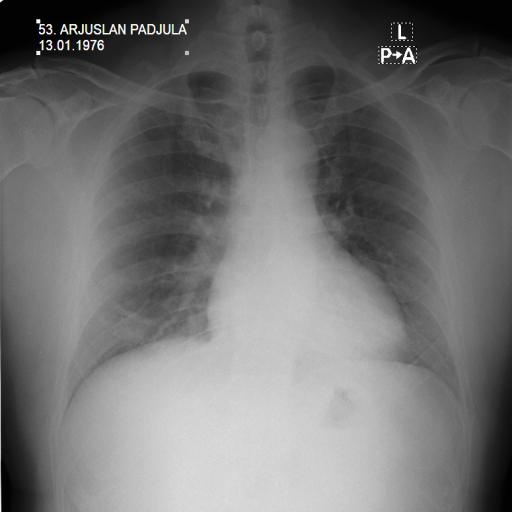kardiomegali: (50, 32, 474, 426)
